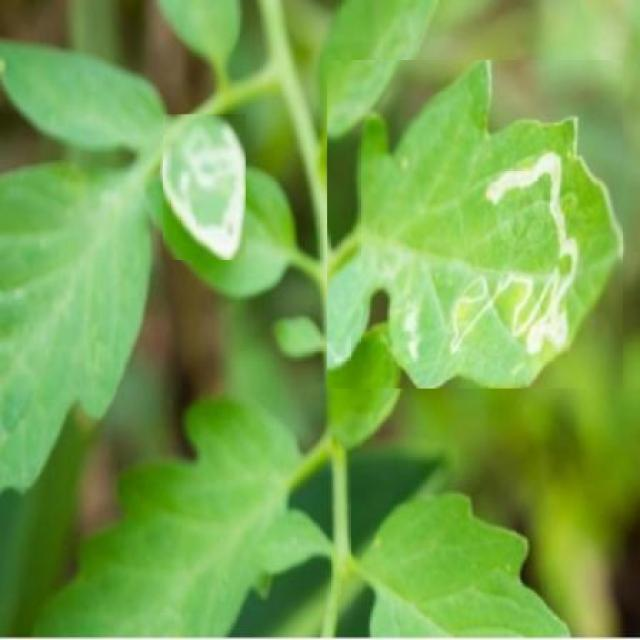Leaf Miner: (327, 61, 623, 388), (163, 115, 246, 261)
